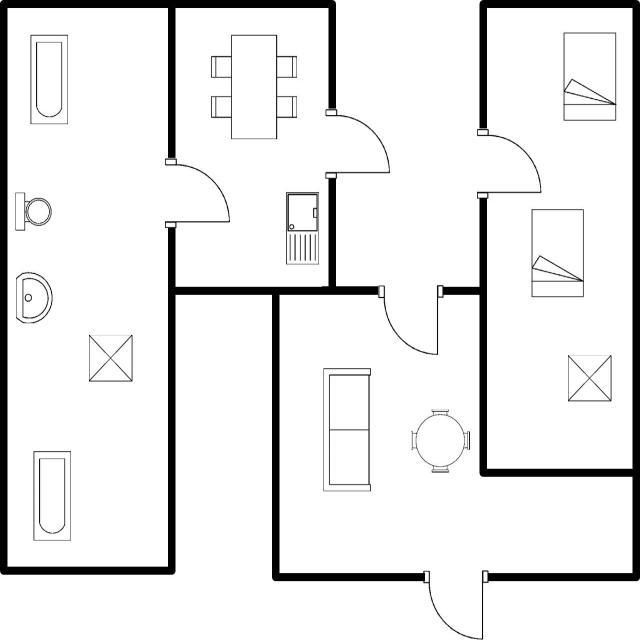bed: (526, 204, 590, 304), (558, 27, 620, 126)
coffee_table: (84, 330, 138, 387), (562, 350, 616, 405)
dining_table: (205, 30, 301, 144)
large_sink: (12, 188, 56, 236)
large_sofa: (318, 362, 376, 498)
round_table: (404, 405, 472, 476)
sink: (280, 186, 323, 270)
small_sink: (12, 268, 56, 328)
tub: (29, 446, 75, 546), (26, 31, 70, 129)
